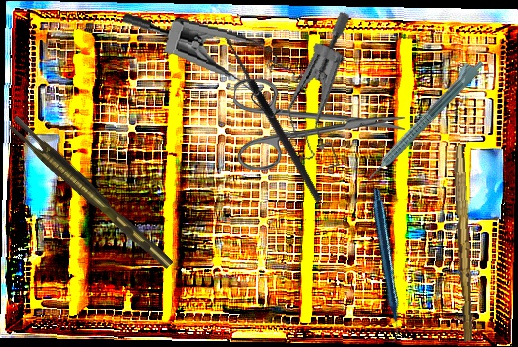Handpiece: (313, 187, 455, 344), (359, 53, 487, 184)
Hook Surgical: (209, 28, 325, 209)
Iris Scissors: (232, 78, 406, 173)
Scalpel Handle: (448, 145, 478, 342)
Speculum: (261, 10, 392, 184), (114, 11, 308, 121)
Tissue Forceps: (6, 110, 174, 278)
